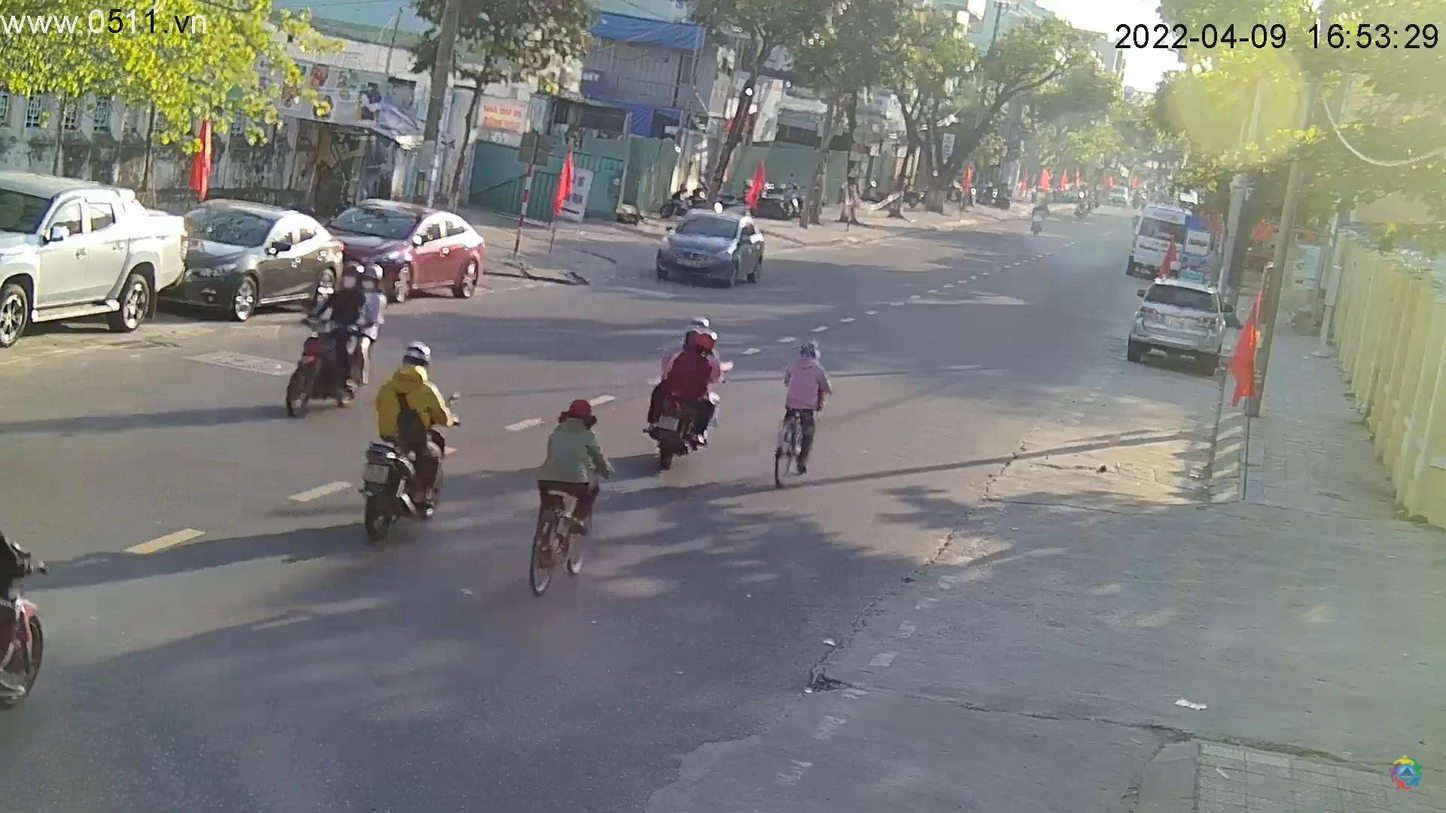car: (4, 177, 187, 353), (164, 201, 354, 324), (322, 197, 490, 303), (654, 214, 765, 289)
motorbike: (281, 297, 371, 419)
